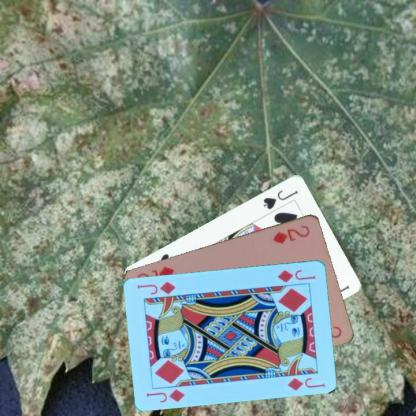2d: (270, 221, 312, 245)
Jd: (144, 386, 186, 404), (275, 267, 317, 284)
Js: (260, 187, 300, 210)
